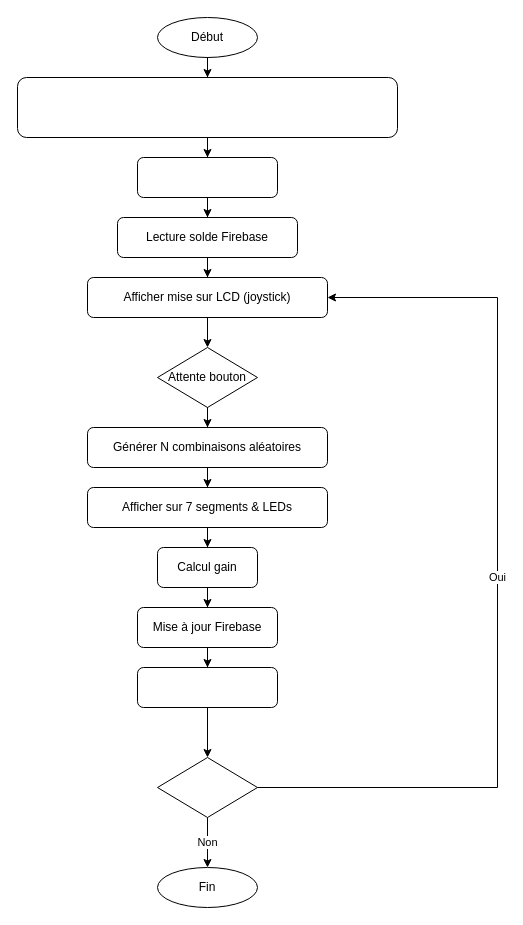
Some shapes in this 523 by 925 pixel diagram are drawn without their labels. Here are the shapes that lost their labels. From the top down, the centre of each, then its label:
At pixel 207 107: "Initialisation modules (Wi-Fi, LCD, LEDs, 7 segments, Firebase...)".
At pixel 207 177: "Connexion Wi-Fi".
At pixel 207 687: "Afficher résultat".
At pixel 207 787: "Nouvelle partie ?".
